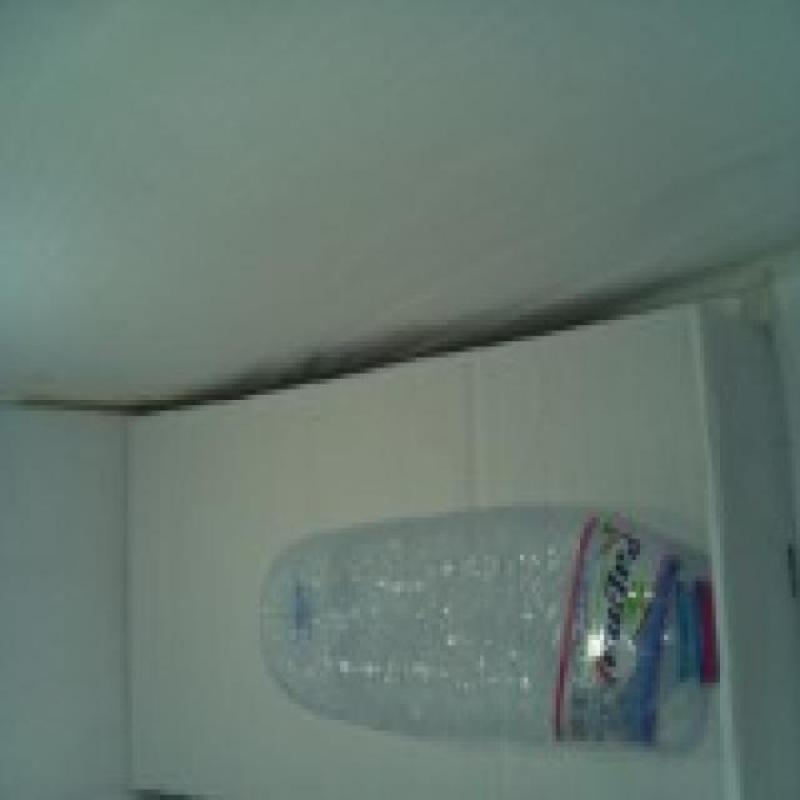botella: (262, 509, 722, 755)
